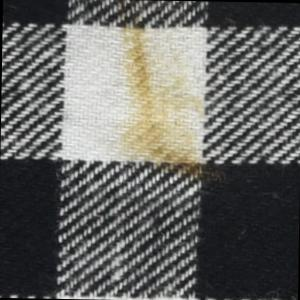Oil Stain: (107, 1, 235, 184)
